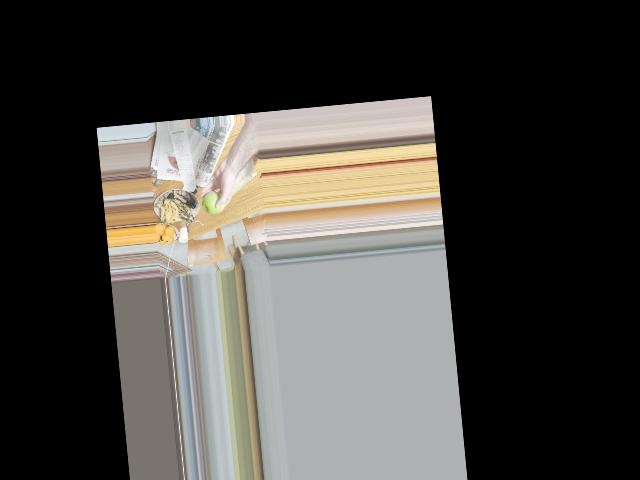apple: (200, 185, 227, 216)
